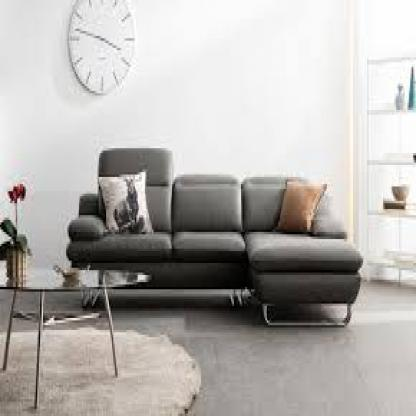sofa: (63, 146, 364, 315)
